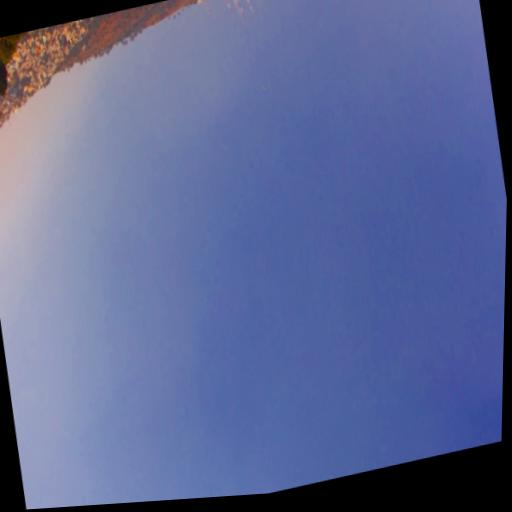drones: (262, 82, 268, 91)
